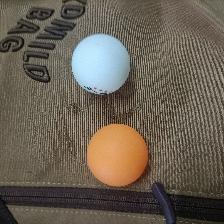WhiteBall: (71, 33, 130, 95)
YellowBall: (87, 123, 148, 187)
